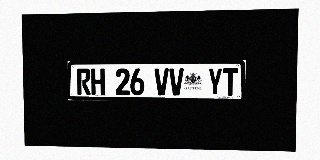2: (116, 68, 130, 95)
6: (130, 68, 144, 95)
H: (91, 68, 105, 95)
R: (77, 68, 91, 95)
T: (223, 68, 238, 96)
V: (154, 68, 169, 95), (169, 68, 184, 95)
Y: (208, 68, 222, 96)
